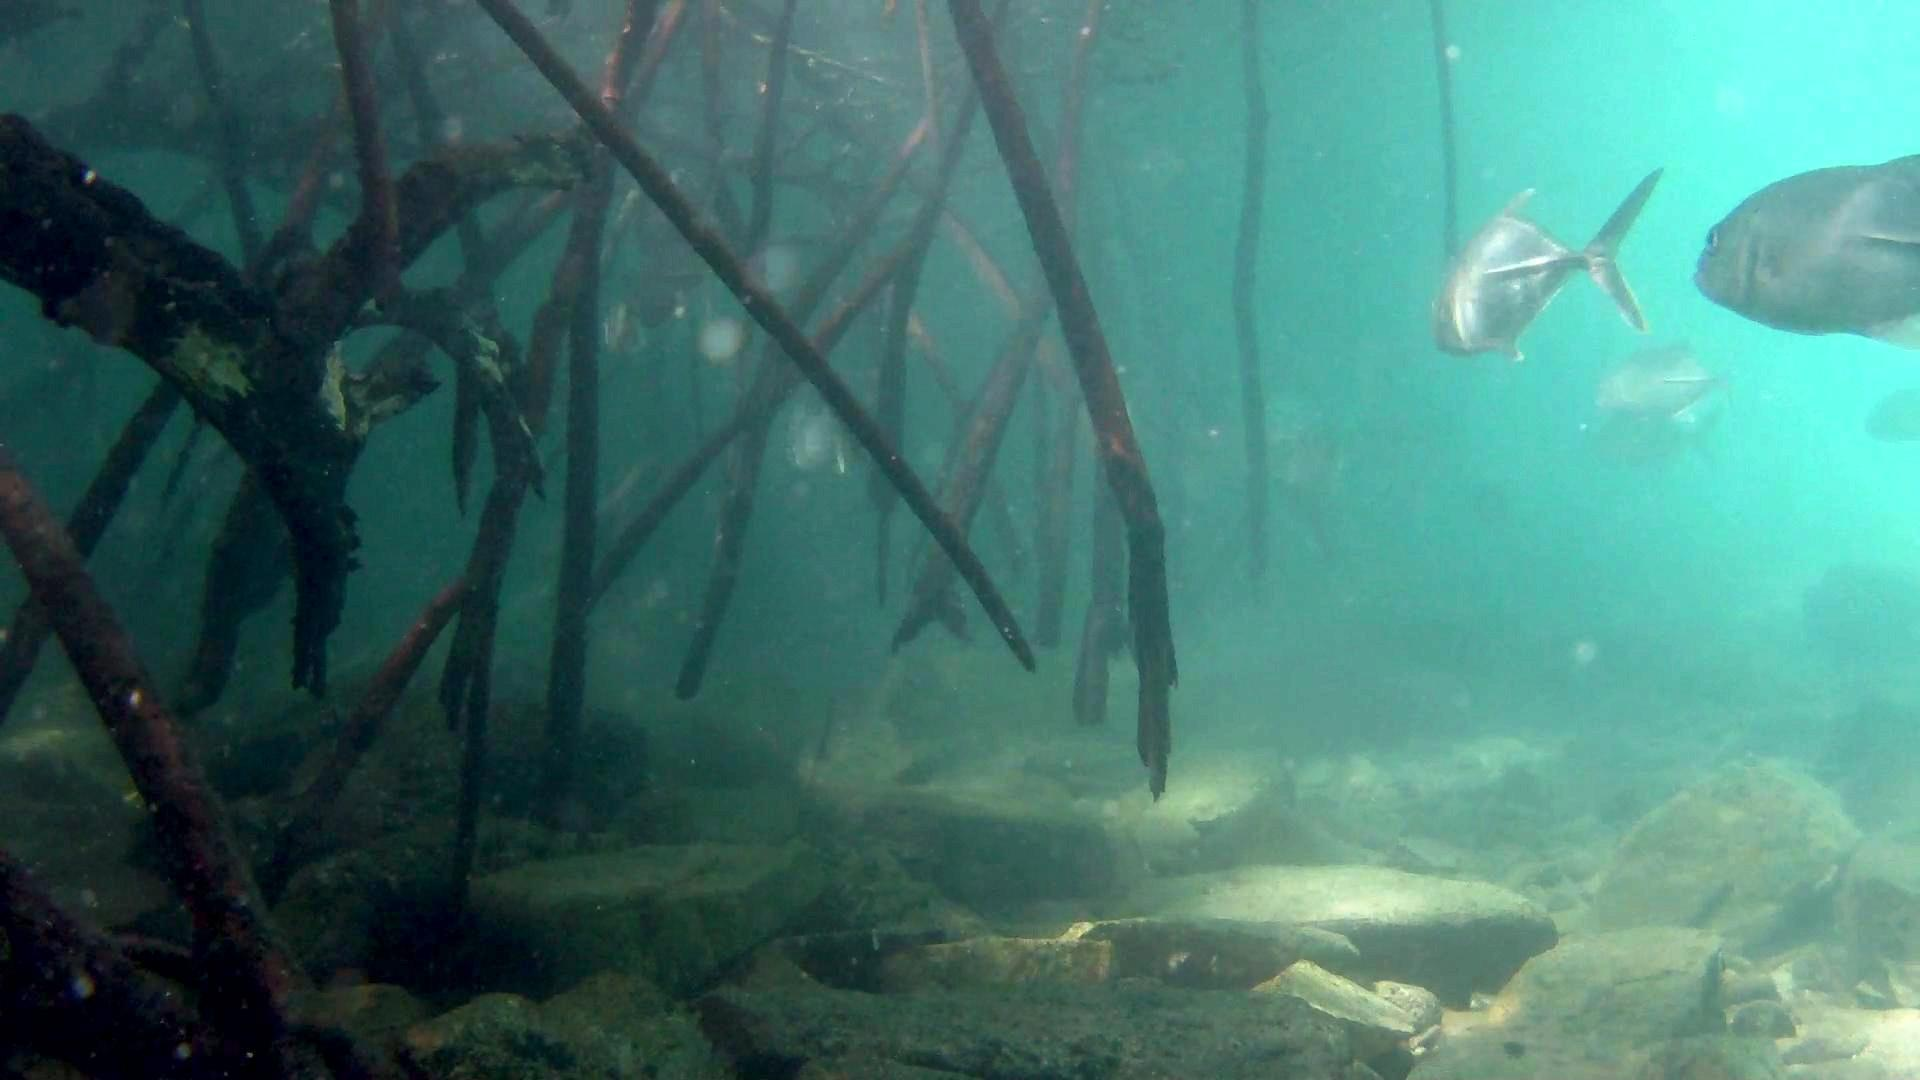caranx: (1681, 141, 1920, 368), (1425, 162, 1665, 369)
